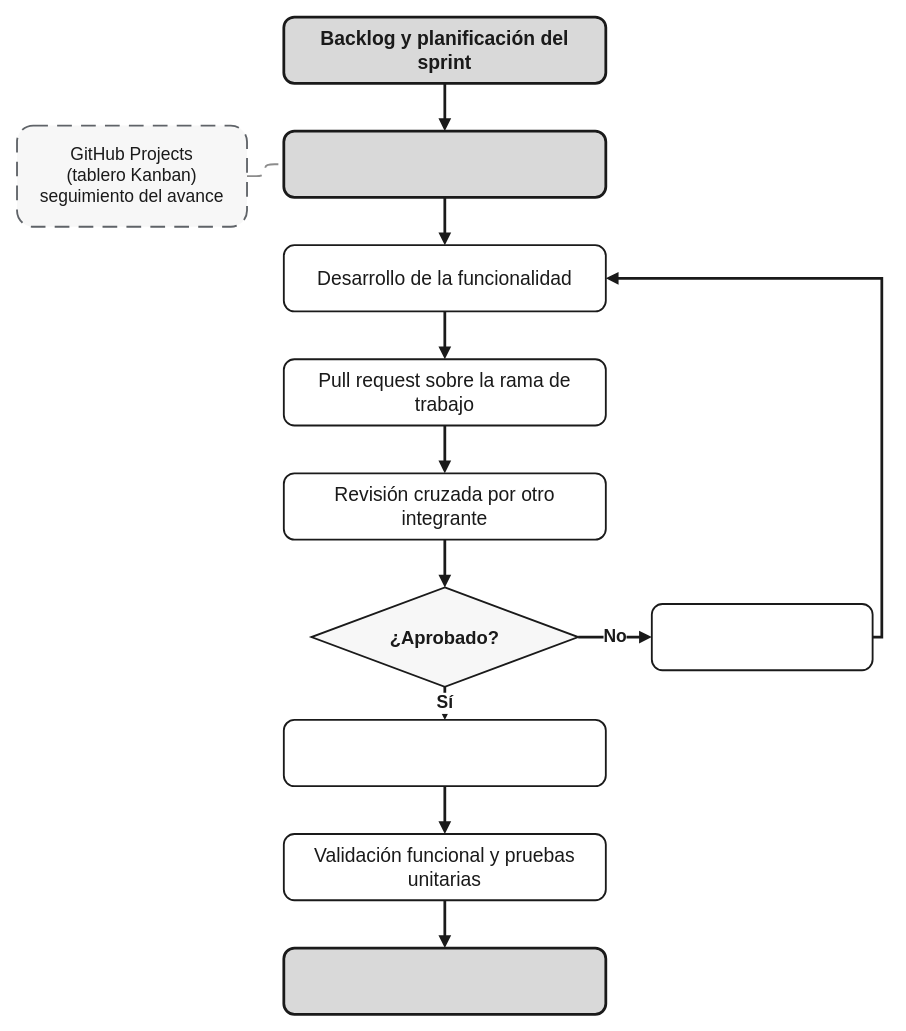
This 906x1031 diagram has some shape labels left out. The centre of each missing label's shape, as x and y in pixels:
Correcciones: pixel 761 637
Documentación y seguimiento: pixel 444 980
Integración en la rama principal: pixel 444 753
Sprint de desarrollo: pixel 444 163
